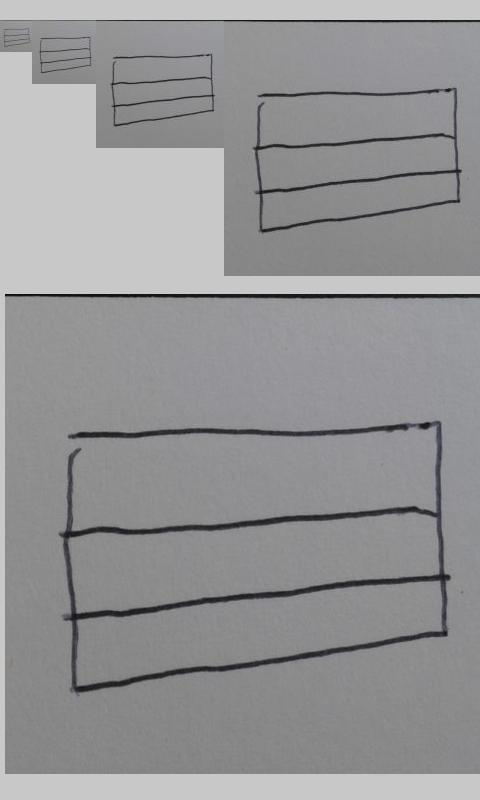list_view: (62, 418, 450, 695), (253, 87, 462, 234), (111, 53, 216, 127), (39, 36, 93, 74), (3, 28, 31, 48)
